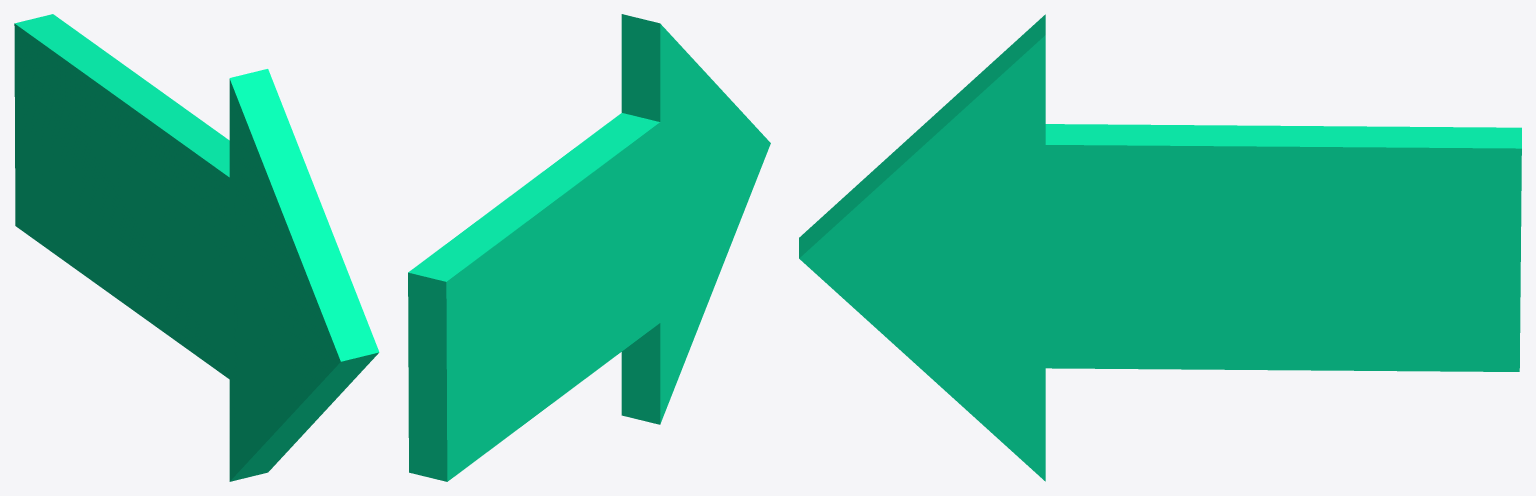
File: arrow.glb
3 views of the same model, side by side, from view 1: azimuth 30°, elevation 25°; view 2: azimuth 150°, elevation 25°; view 3: azimuth 270°, elevation 25° (orthographic). The views are drawn at different scales.
Parts seen in each view (by area): view 1: Arrow; view 2: Arrow; view 3: Arrow.
Boxes of the visible parts, x1,y1,x2,y2 form: Arrow: (14,14,379,481); Arrow: (408,14,770,481); Arrow: (799,14,1521,481).
Bounding box in the file's own units: 0.5 × 5 × 7.33.
